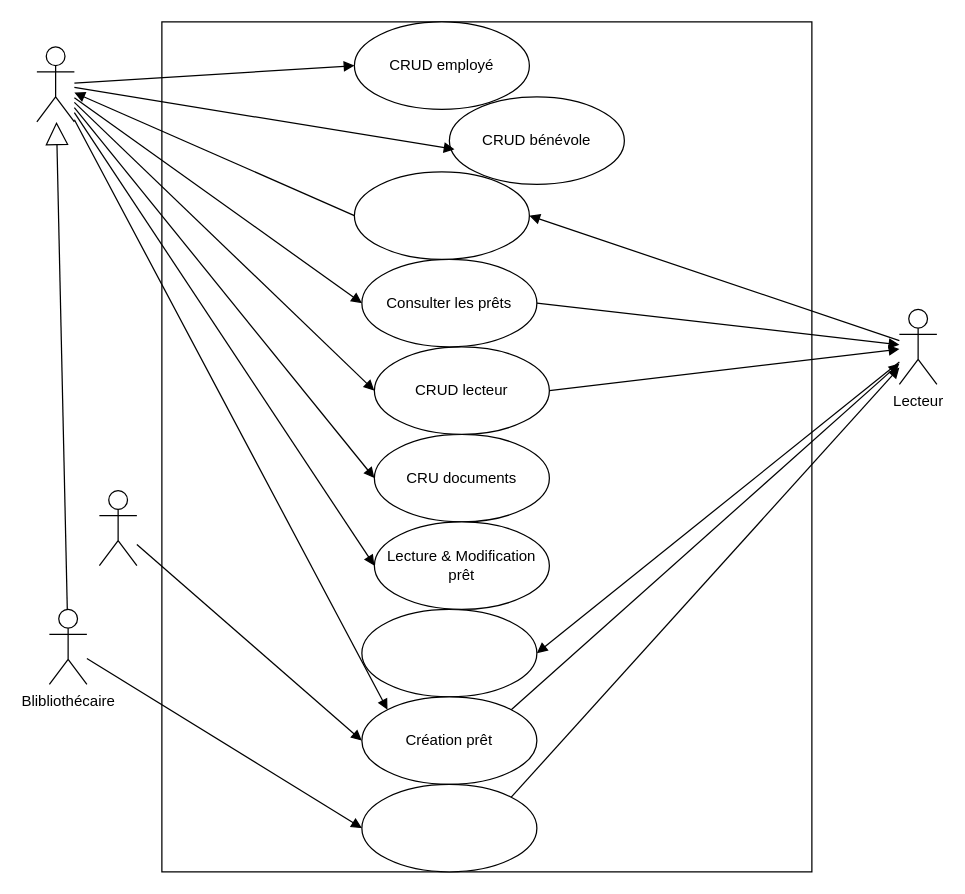
Some shapes in this 965 by 894 pixel diagram are drawn without their labels. The centre of each missing label's shape, as x and y in pixels:
Bénévole: the point at 117,527
Consulter la liste des documents: the point at 449,652
Employé: the point at 55,84
Relancer pour finir le prêt: the point at 449,827
S'authentifier: the point at 441,215
